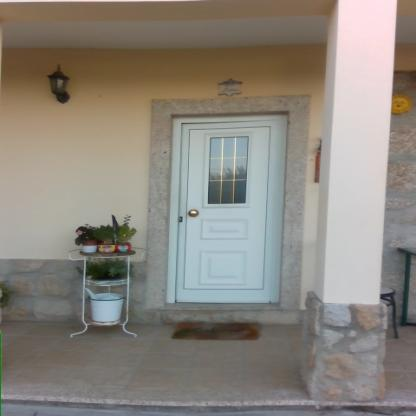closed: (147, 103, 306, 330)
